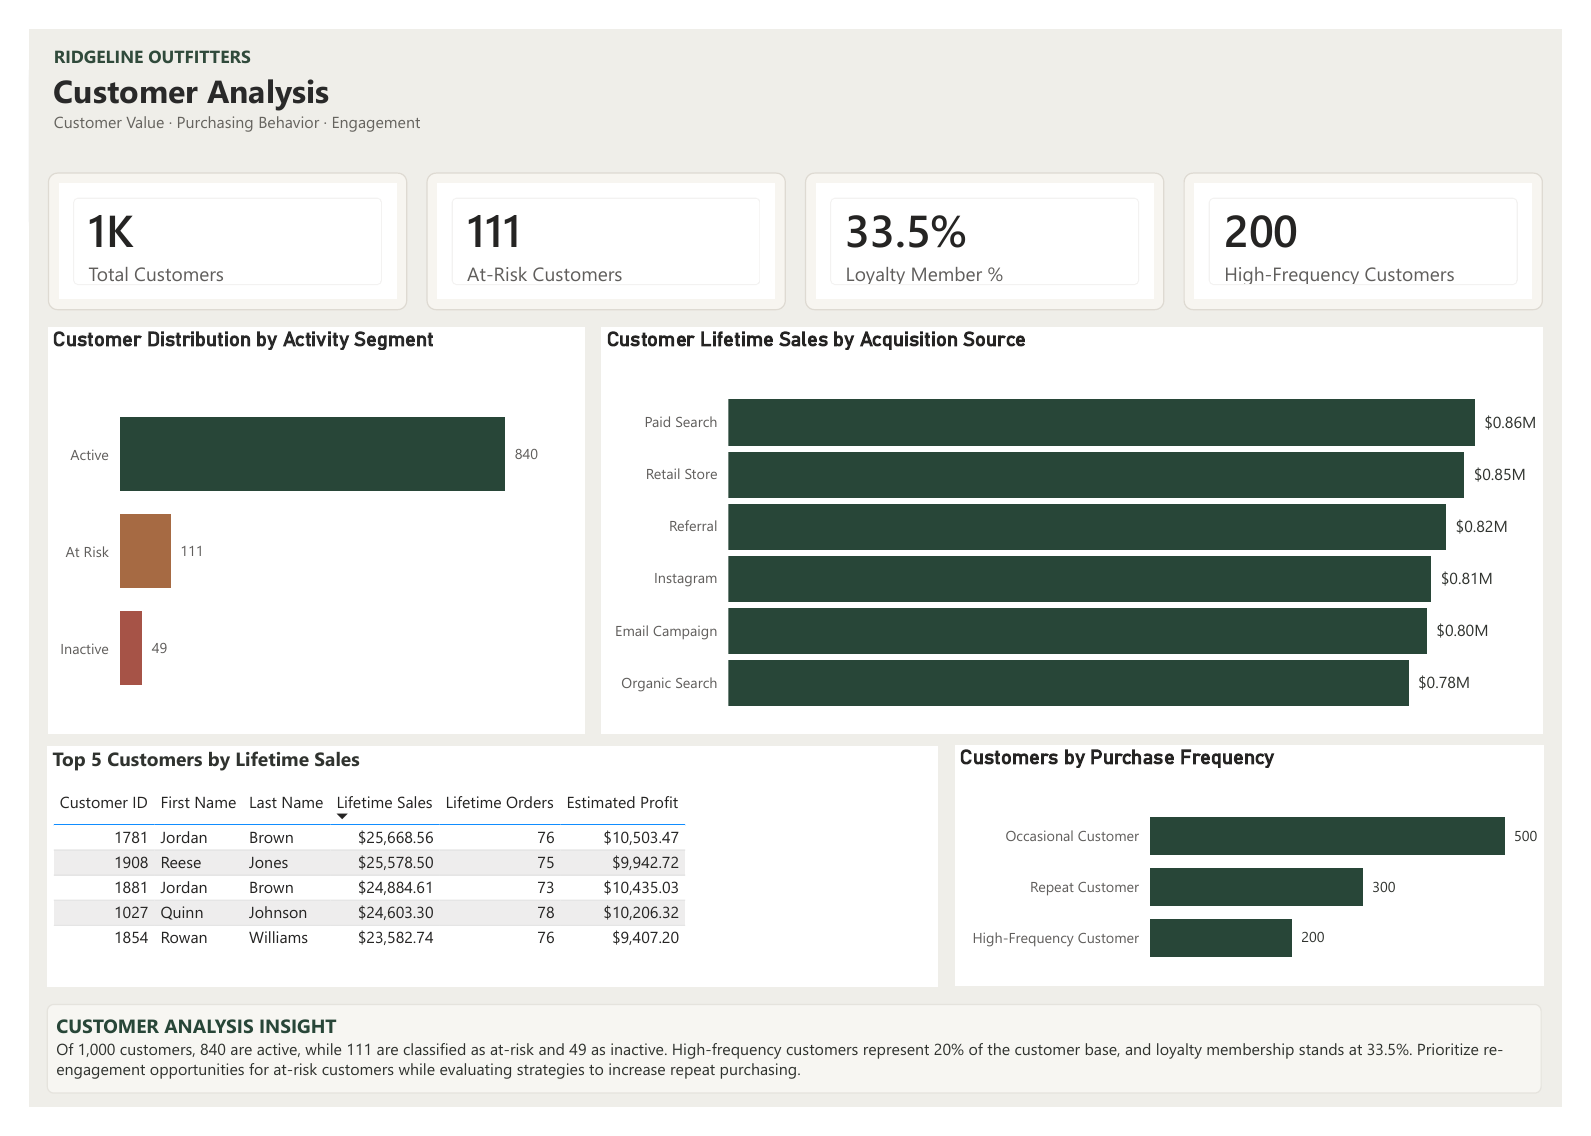

This screenshot's page, from the dashboard's own definition file:
{"tool":"powerbi","page":{"name":"Customer Analysis","canvas":[1280,900],"ordinal":3},"visuals":[{"type":"cardVisual","fields":{"Data":["_Measures.Total Customers"]},"box":[16,120,300,115],"z":0},{"type":"textbox","box":[16,8,599,130],"z":1000},{"type":"cardVisual","fields":{"Data":["_Measures.At-Risk Customers"]},"box":[332,120,300,115],"z":2000},{"type":"cardVisual","fields":{"Data":["_Measures.Loyalty Member %"]},"box":[648,120,300,115],"z":3000},{"type":"cardVisual","fields":{"Data":["_Measures.High-Frequency Customers"]},"box":[964,120,300,115],"z":4000},{"type":"clusteredBarChart","title":"Customer Distribution by Activity Segment","fields":{"Category":["gold_customer_analysis.CustomerActivitySegment"],"Y":["_Measures.Total Customers"]},"box":[16,249,448,340],"z":5000},{"type":"clusteredBarChart","title":"Customer Lifetime Sales by Acquisition Source","fields":{"Category":["gold_customer_analysis.AcquisitionSource"],"Y":["Sum(gold_customer_analysis.LifetimeNetSales)"]},"box":[478,249,786,340],"z":7000},{"type":"tableEx","title":"Top 5 Customers by Lifetime Sales","fields":{"Values":["gold_customer_analysis.CustomerID","gold_customer_analysis.FirstName","gold_customer_analysis.LastName","Sum(gold_customer_analysis.LifetimeNetSales)","Sum(gold_customer_analysis.LifetimeOrders)","Sum(gold_customer_analysis.LifetimeEstimatedProfit)"]},"box":[15.2,598.8,743.3,201.5],"z":8000},{"type":"clusteredBarChart","title":"Customers by Purchase Frequency","fields":{"Category":["gold_customer_analysis.PurchaseFrequencySegment"],"Y":["_Measures.Total Customers"]},"box":[773,598,492,201],"z":9000},{"type":"textbox","box":[15,814,1248,75],"z":10000}]}

Visuals, with their boxes in screenshot pixels (x1, y1, x2, y2), scaled from the page's 1280x900 canvas onto the 1591x1136 screenshot:
cardVisual - _Measures.Total Customers: crop(20, 151, 393, 297)
textbox: crop(20, 10, 764, 174)
cardVisual - _Measures.At-Risk Customers: crop(413, 151, 786, 297)
cardVisual - _Measures.Loyalty Member %: crop(805, 151, 1178, 297)
cardVisual - _Measures.High-Frequency Customers: crop(1198, 151, 1571, 297)
"Customer Distribution by Activity Segment" clusteredBarChart: crop(20, 314, 577, 743)
"Customer Lifetime Sales by Acquisition Source" clusteredBarChart: crop(594, 314, 1571, 743)
"Top 5 Customers by Lifetime Sales" tableEx: crop(19, 756, 943, 1010)
"Customers by Purchase Frequency" clusteredBarChart: crop(961, 755, 1572, 1009)
textbox: crop(19, 1027, 1570, 1122)
